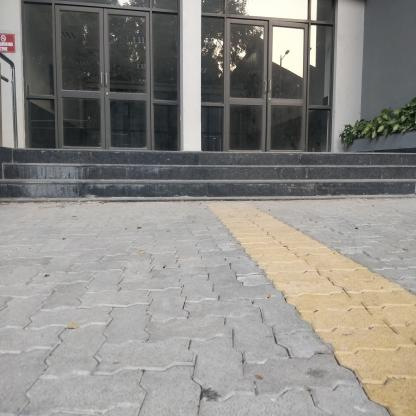stairs: (14, 147, 410, 209)
